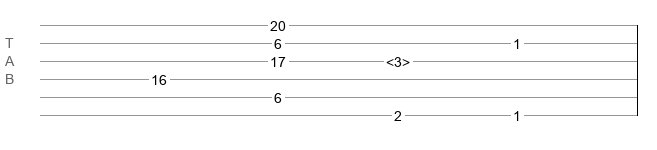1: (513, 108, 521, 118), (513, 36, 521, 46)
16: (151, 72, 167, 82)
17: (270, 54, 286, 64)
2: (394, 108, 402, 118)
20: (270, 18, 286, 28)
6: (274, 90, 282, 100), (274, 36, 282, 46)
harmonic: (386, 54, 410, 64)
